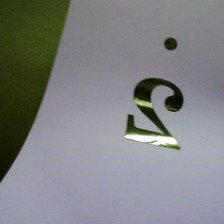violet2: (122, 32, 191, 163)
